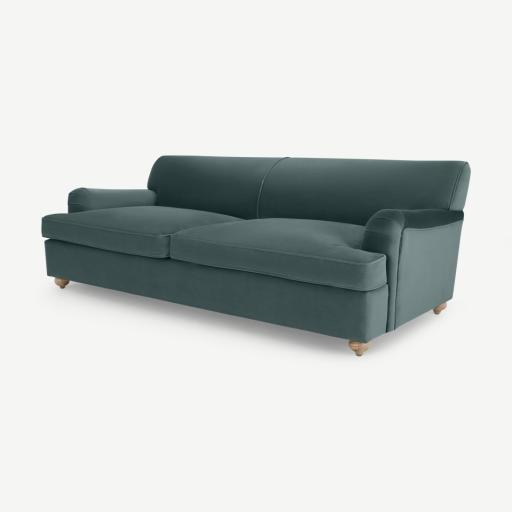back_cushion: (148, 156, 470, 225)
base: (45, 240, 388, 342)
left_arm: (395, 221, 462, 328)
legs: (350, 340, 370, 356), (54, 278, 69, 289), (435, 303, 446, 314)
right_arm: (68, 188, 156, 213)
seat_cushion: (42, 206, 387, 290)
two-seater: (0, 0, 511, 512)
